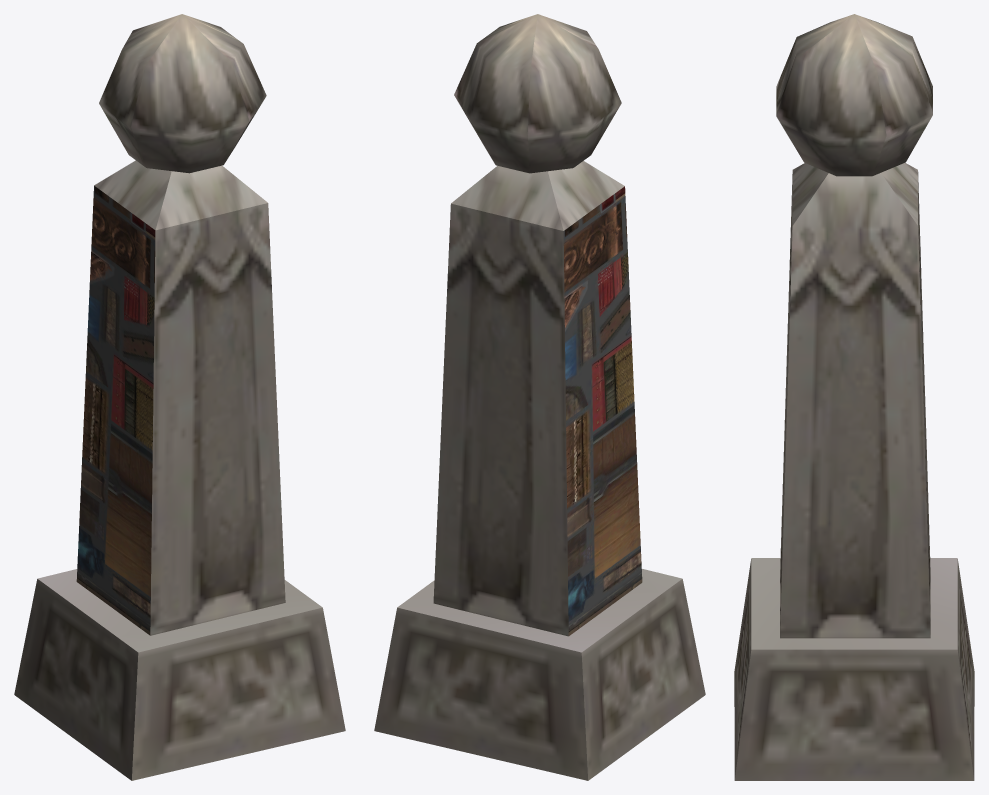
Rendered from cj_luoyang_langan04_53_47_5733out.fbx.
3 renders of one model, left to right at view 1: azimuth 30°, elevation 25°; view 2: azimuth 150°, elevation 25°; view 3: azimuth 270°, elevation 25°, orthographic. The views are drawn at different scales.
Visible parts, largest first — view 1: cj_luoyang_langan04; view 2: cj_luoyang_langan04; view 3: cj_luoyang_langan04.
Part boxes in pixels (x1=…): cj_luoyang_langan04: x1=14, y1=14, x2=345, y2=780; cj_luoyang_langan04: x1=374, y1=14, x2=705, y2=780; cj_luoyang_langan04: x1=734, y1=14, x2=974, y2=780.
Size of the model in its own units: 0.4389 by 1.37 by 0.4174.
